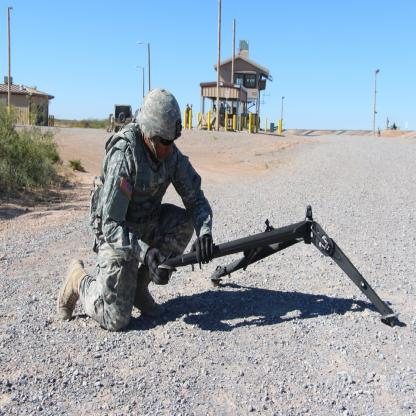Helmet: (135, 90, 182, 160)
